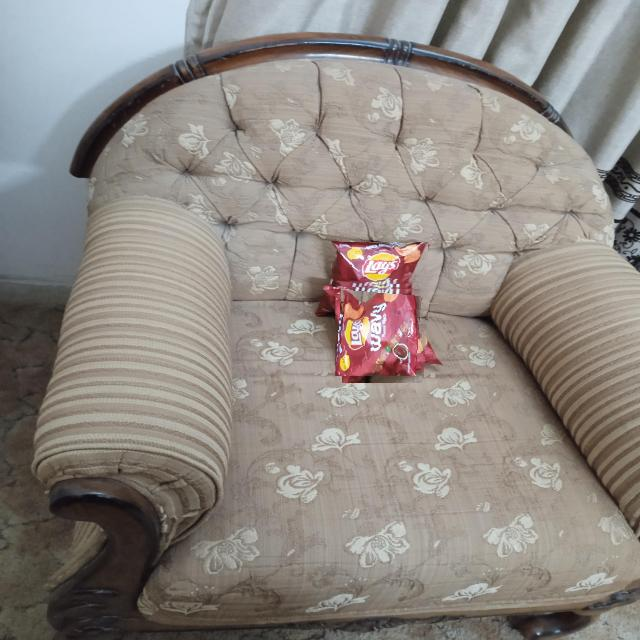Plastic: (335, 282, 430, 376), (332, 242, 429, 289)
